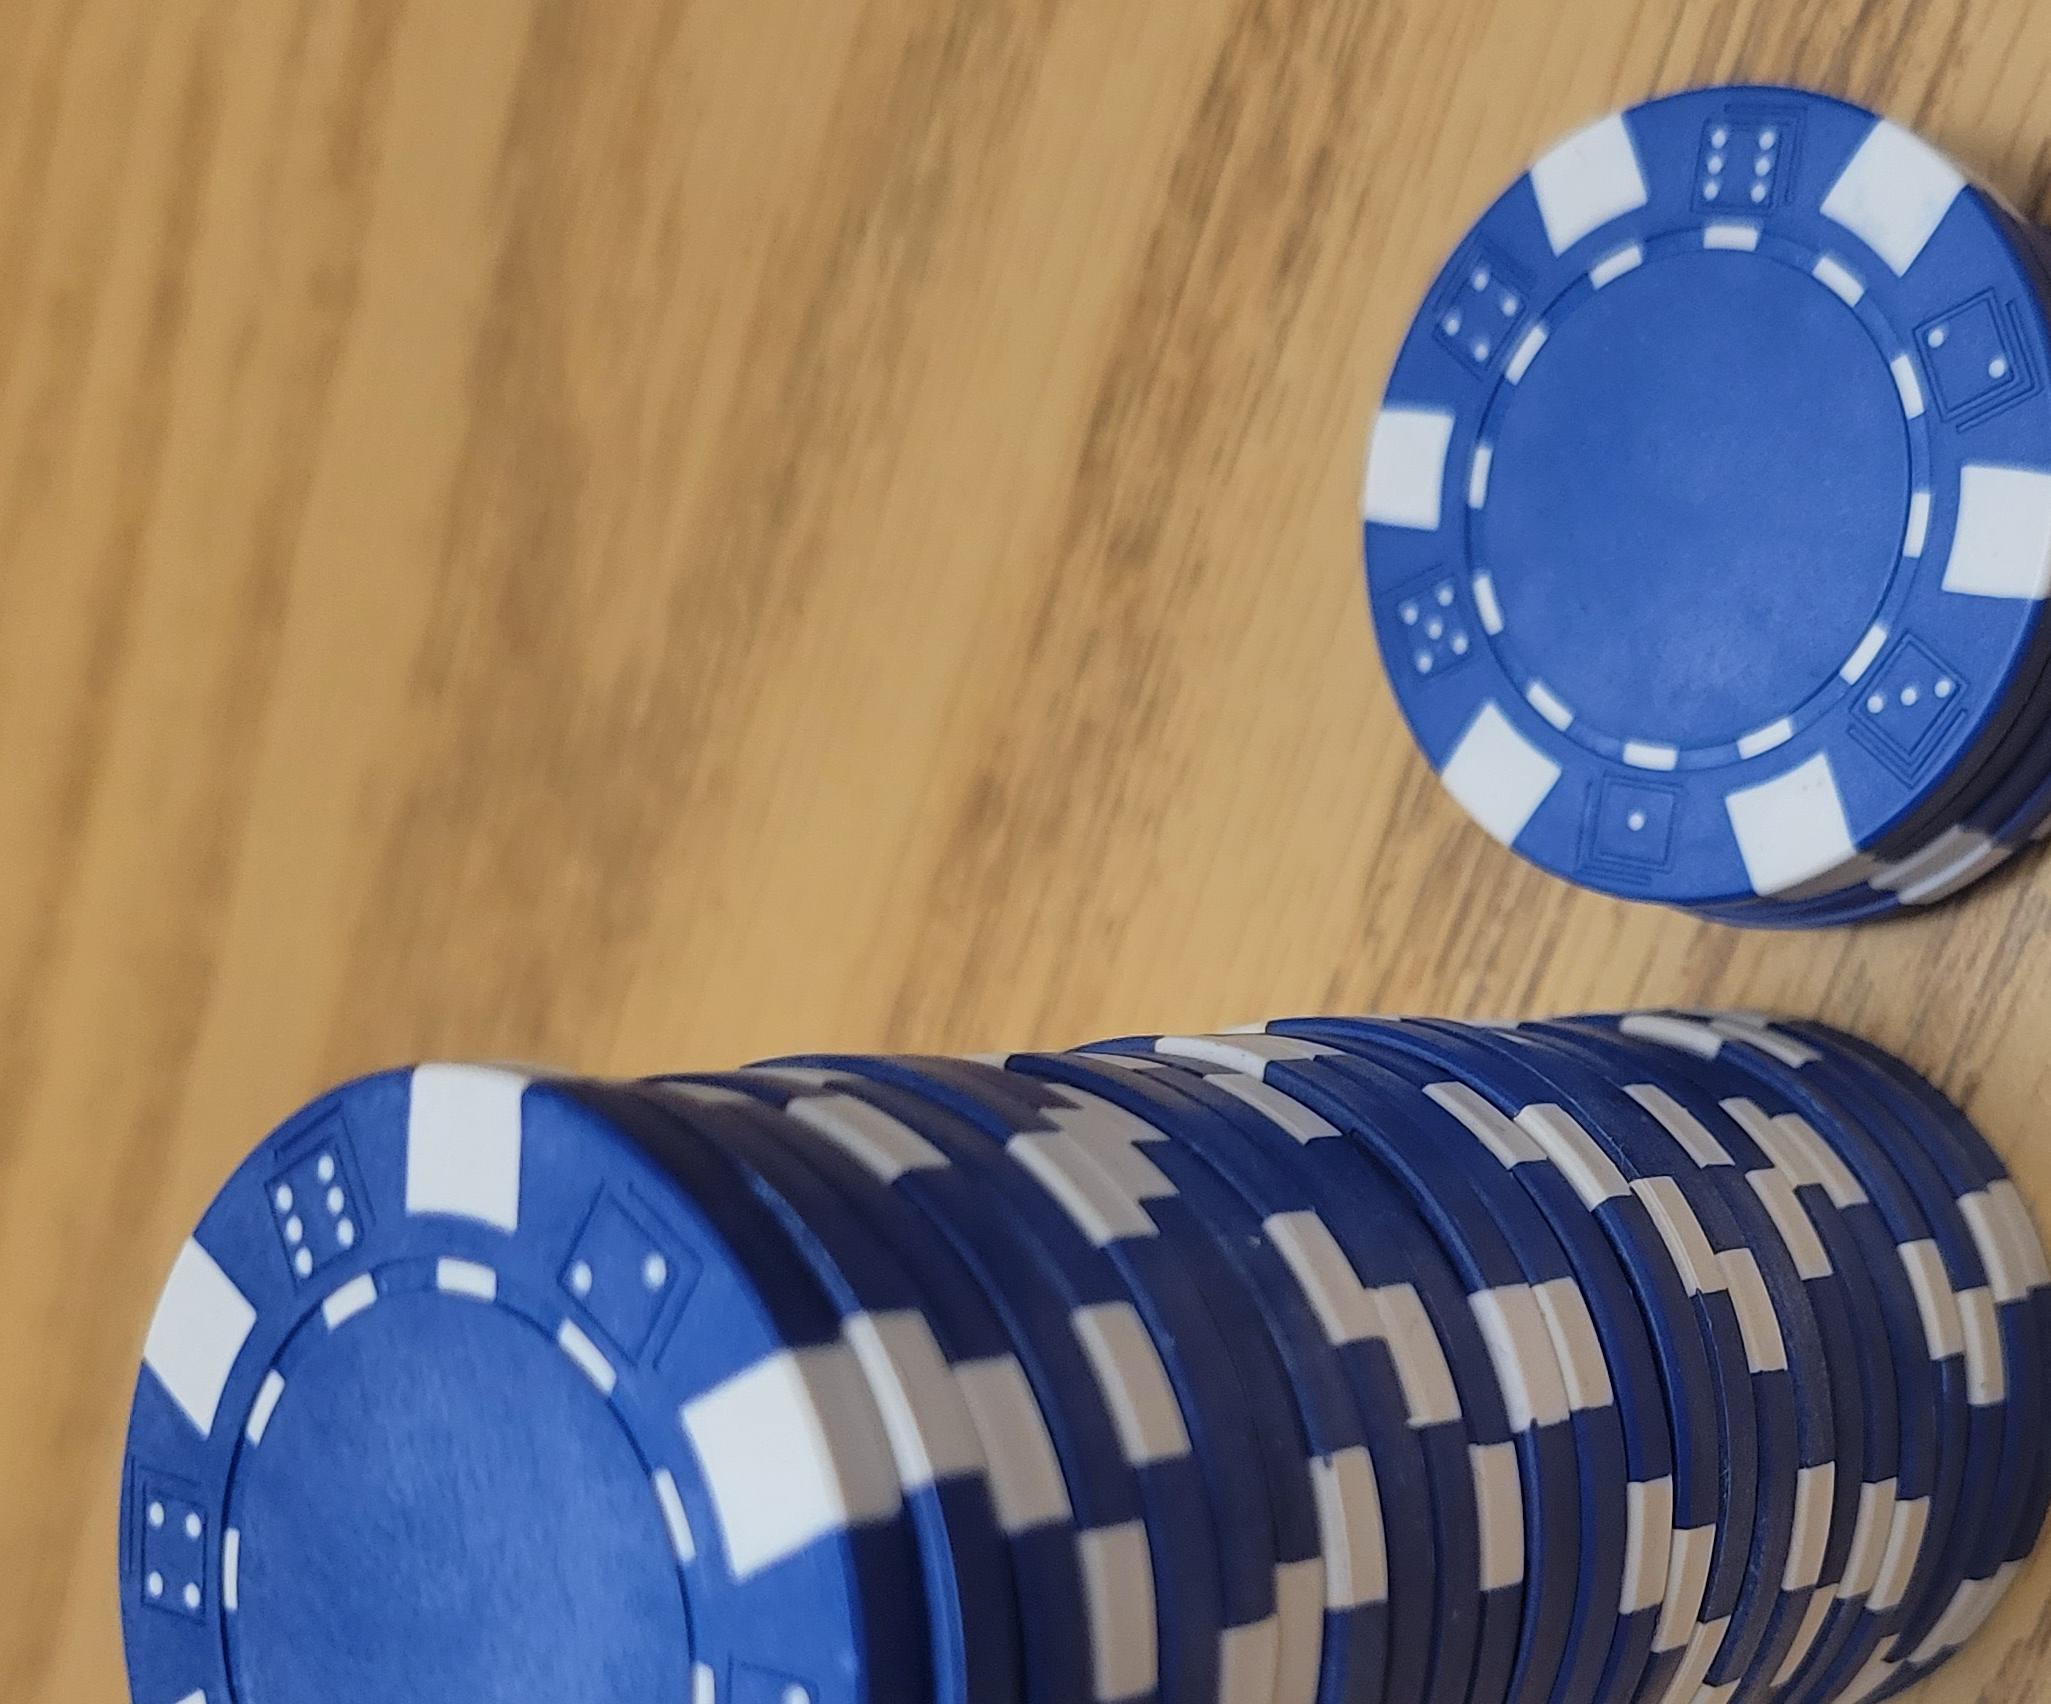Chip: (2, 92, 1416, 1704)
